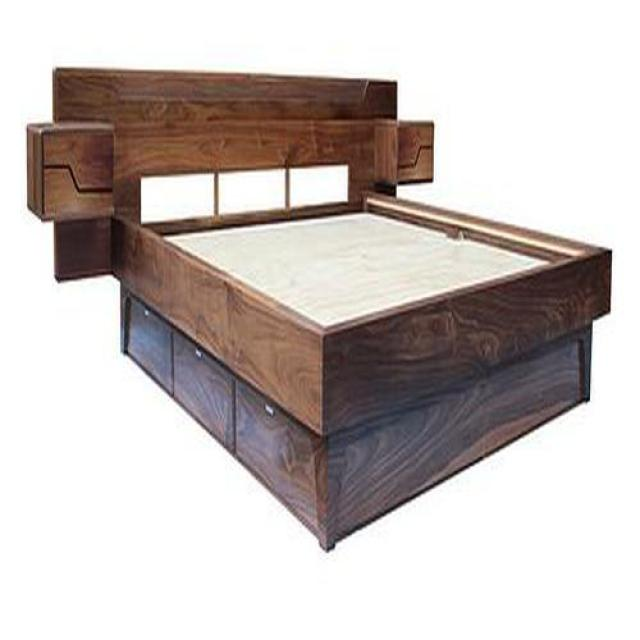bed: (27, 69, 614, 553)
